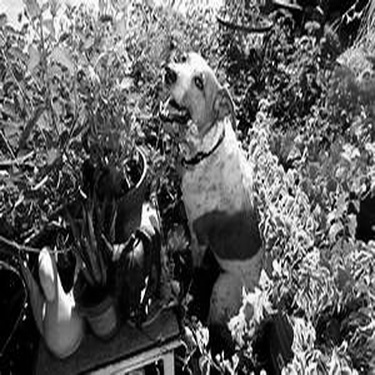dog: (120, 31, 292, 354)
